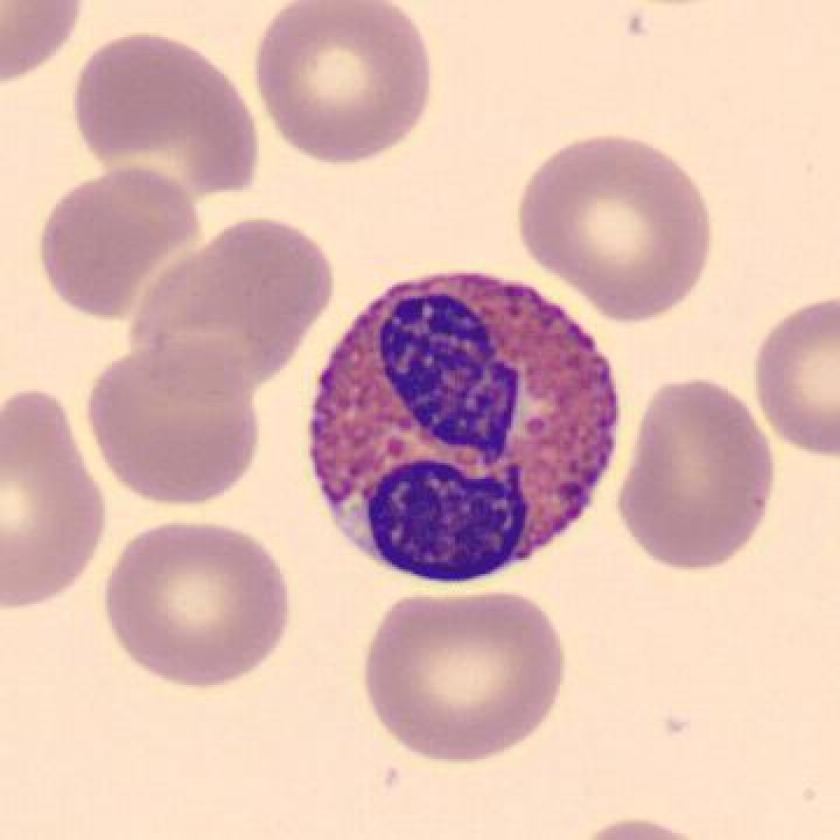eosinophil: (298, 260, 634, 587)
